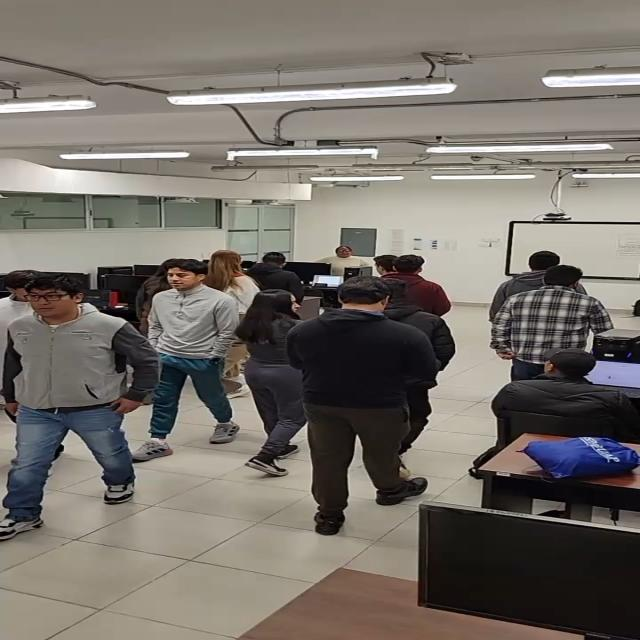Persona: (0, 276, 151, 543), (299, 277, 447, 536), (151, 258, 246, 458), (500, 262, 596, 398), (247, 288, 308, 481)
